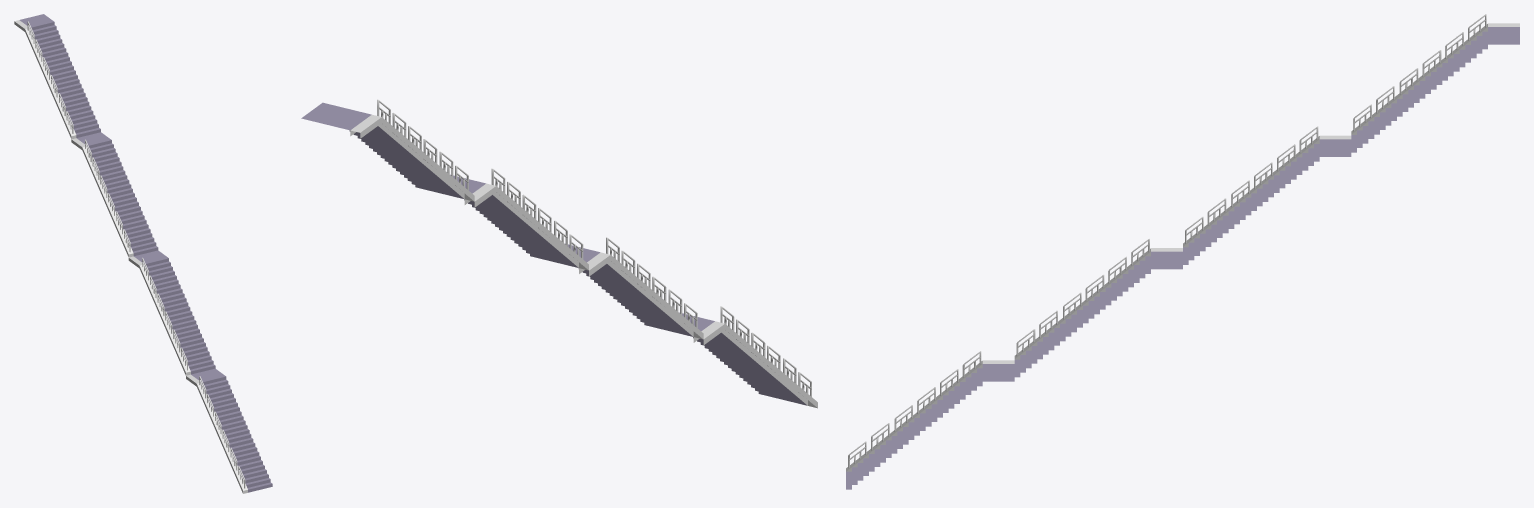
File: Stairs_suhyeonnFixed.fbx
3 views of the same model, side by side, from view 1: azimuth 30°, elevation 25°; view 2: azimuth 150°, elevation 25°; view 3: azimuth 270°, elevation 25° (orthographic). The views are drawn at different scales.
Visible parts, largest first — view 1: stairs020, stairs05, stairs015, stairs010, container, container003, container002, container001, stairs009, stairs019, stairs014, stairs017 (+12 smaller); view 2: container003, container001, container, container002, stairs020, stairs012, stairs016, stairs014, stairs019, stairs021, stairs01, stairs006 (+5 smaller); view 3: stairs015, container001, stairs010, stairs020, stairs05, container, container003, container002.
Boxes of the visible parts, <box> form: stairs020: <box>19,14,62,47</box>; stairs05: <box>191,368,233,402</box>; stairs015: <box>134,250,176,284</box>; stairs010: <box>77,132,119,166</box>; container: <box>186,374,247,493</box>; container003: <box>14,20,76,139</box>; container002: <box>128,256,190,375</box>; container001: <box>71,138,133,257</box>; stairs009: <box>125,228,158,256</box>; stairs019: <box>68,110,100,137</box>; stairs014: <box>182,346,215,374</box>; stairs017: <box>164,301,196,329</box>; container003: <box>350,114,474,201</box>; container001: <box>464,183,588,270</box>; container: <box>693,321,817,408</box>; container002: <box>579,252,703,339</box>; stairs020: <box>301,102,386,133</box>; stairs012: <box>475,208,539,235</box>; stairs016: <box>609,293,673,320</box>; stairs014: <box>629,309,692,336</box>; stairs019: <box>400,172,464,199</box>; stairs021: <box>380,155,444,182</box>; stairs01: <box>743,378,807,405</box>; stairs006: <box>724,362,788,389</box>; stairs015: <box>1128,251,1182,287</box>; container001: <box>1183,135,1351,247</box>; stairs010: <box>1296,139,1351,174</box>; stairs020: <box>1465,27,1519,62</box>; stairs05: <box>960,364,1014,399</box>; container: <box>846,360,1014,471</box>; container003: <box>1351,23,1519,134</box>; container002: <box>1014,248,1182,359</box>.
Bounding box in the file's own units: 255 × 2577 × 3417.
